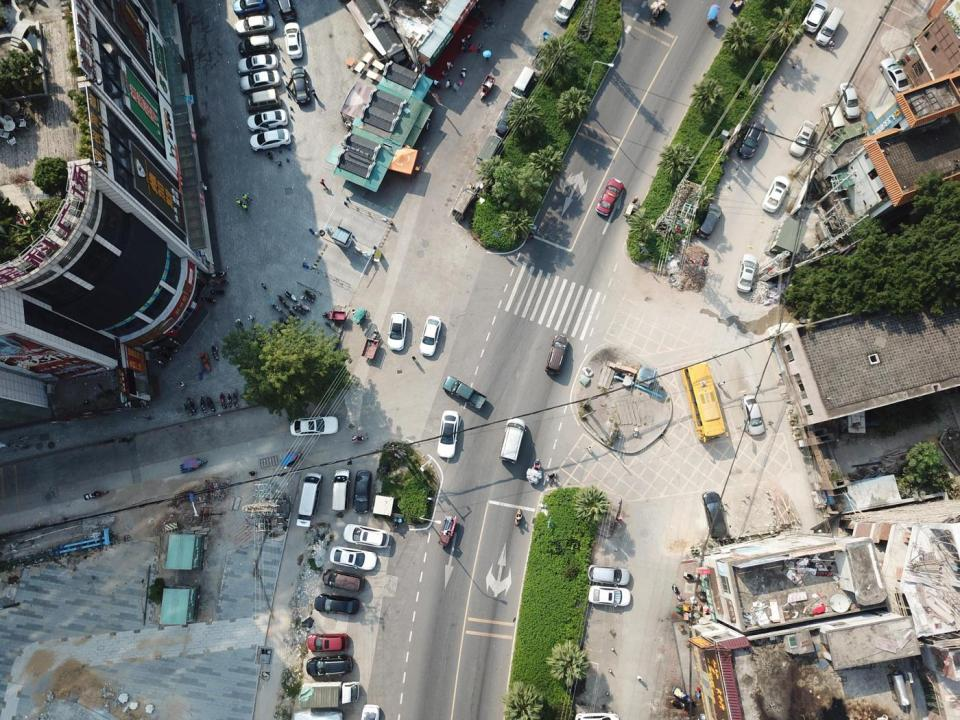bus: (680, 361, 729, 443)
car: (702, 490, 728, 538), (878, 58, 910, 95), (595, 177, 624, 217), (329, 546, 377, 570), (306, 654, 353, 678), (343, 524, 389, 548), (788, 119, 816, 158), (738, 121, 766, 159), (437, 410, 459, 458), (289, 415, 339, 436), (761, 176, 790, 212), (239, 70, 281, 94), (740, 394, 764, 436), (314, 593, 359, 615), (247, 108, 288, 132), (495, 101, 523, 136), (587, 585, 631, 607), (250, 128, 292, 151), (236, 53, 278, 76), (696, 203, 722, 240), (801, 0, 829, 34), (586, 565, 631, 586), (351, 470, 372, 514), (307, 632, 349, 654), (419, 315, 442, 355), (836, 82, 860, 120), (286, 67, 310, 104), (736, 253, 758, 293), (234, 15, 275, 36), (388, 311, 408, 351), (238, 34, 274, 56), (283, 22, 303, 59), (232, 0, 269, 18), (291, 709, 343, 720), (276, 0, 297, 22)
truck: (298, 681, 360, 708), (442, 375, 487, 410)
van: (296, 472, 322, 527), (498, 417, 526, 464), (814, 6, 844, 47), (322, 568, 364, 592), (509, 65, 535, 103), (545, 335, 569, 375), (476, 134, 503, 168), (820, 102, 846, 136), (246, 88, 281, 112), (452, 187, 477, 220), (332, 468, 350, 511), (554, 0, 578, 23)
